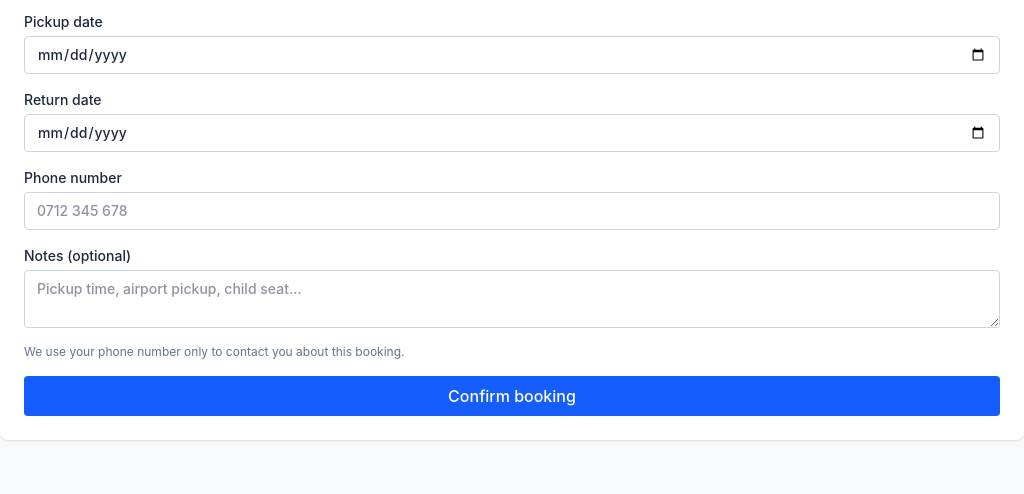
Test: BookingForm › rejects dates in the past
This screenshot has width=1024, height=494.
Step 1. Type "2000-01-01" into the date field labelled "Pickup date" → (512, 55), box [24,36,1000,74]
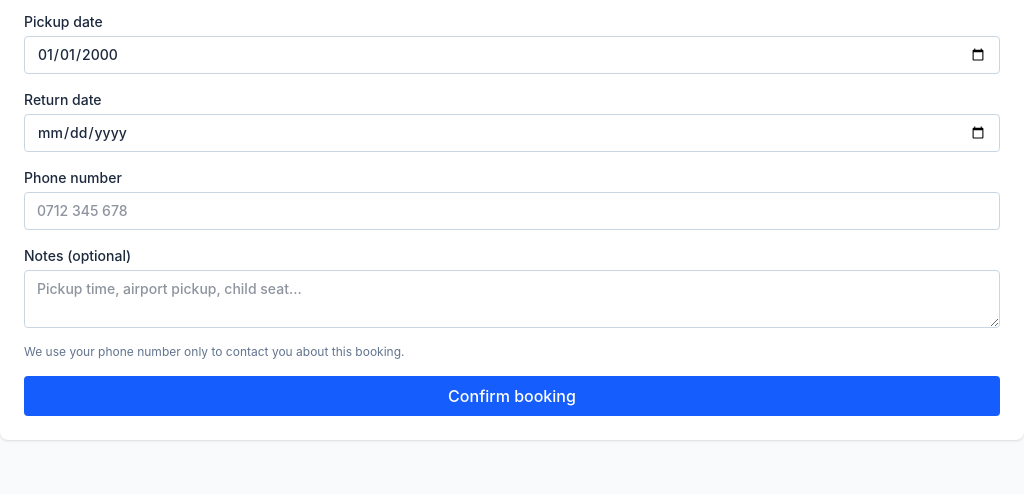
Step 2. Type "2000-01-05" into the date field labelled "Return date" → (512, 133), box [24,114,1000,152]
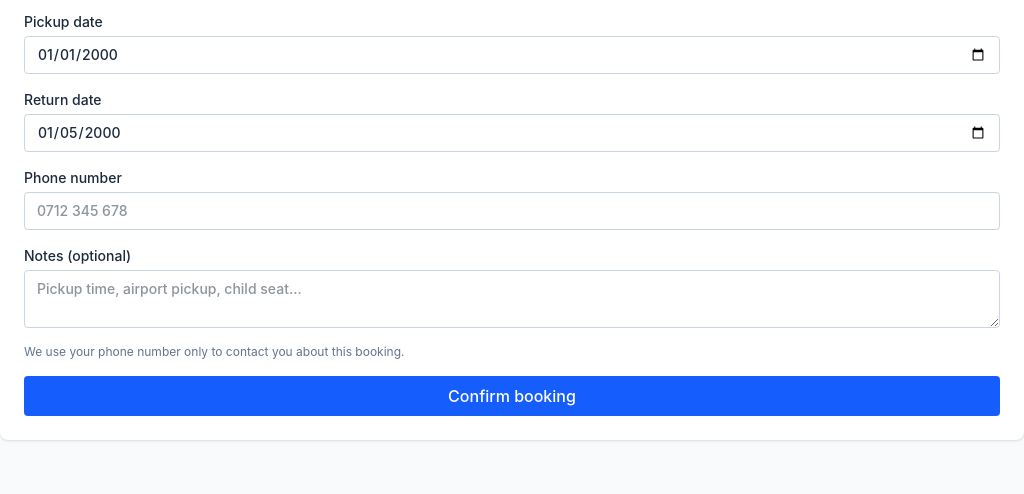
Step 3. Click the button "Confirm booking" → (512, 396), box [24,376,1000,416]
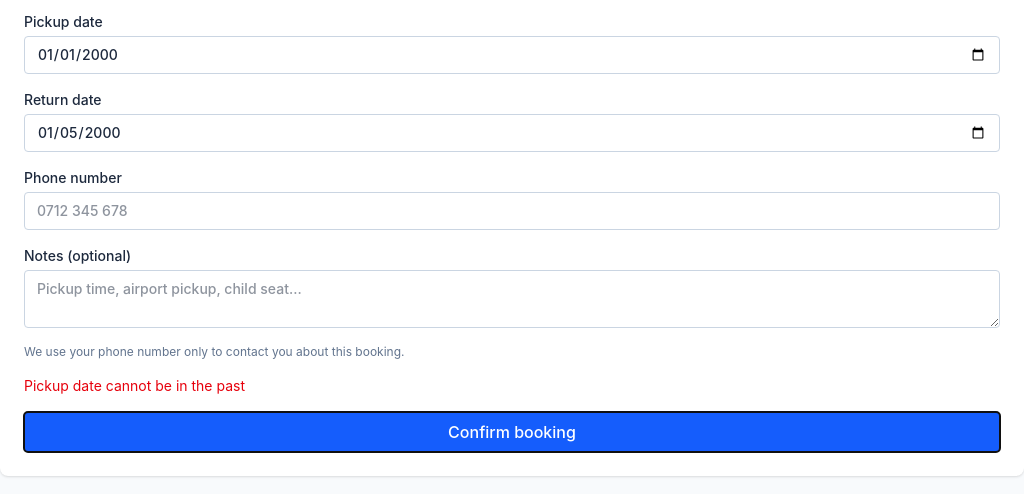
Check: the message shows "past", box [24,377,245,394]
